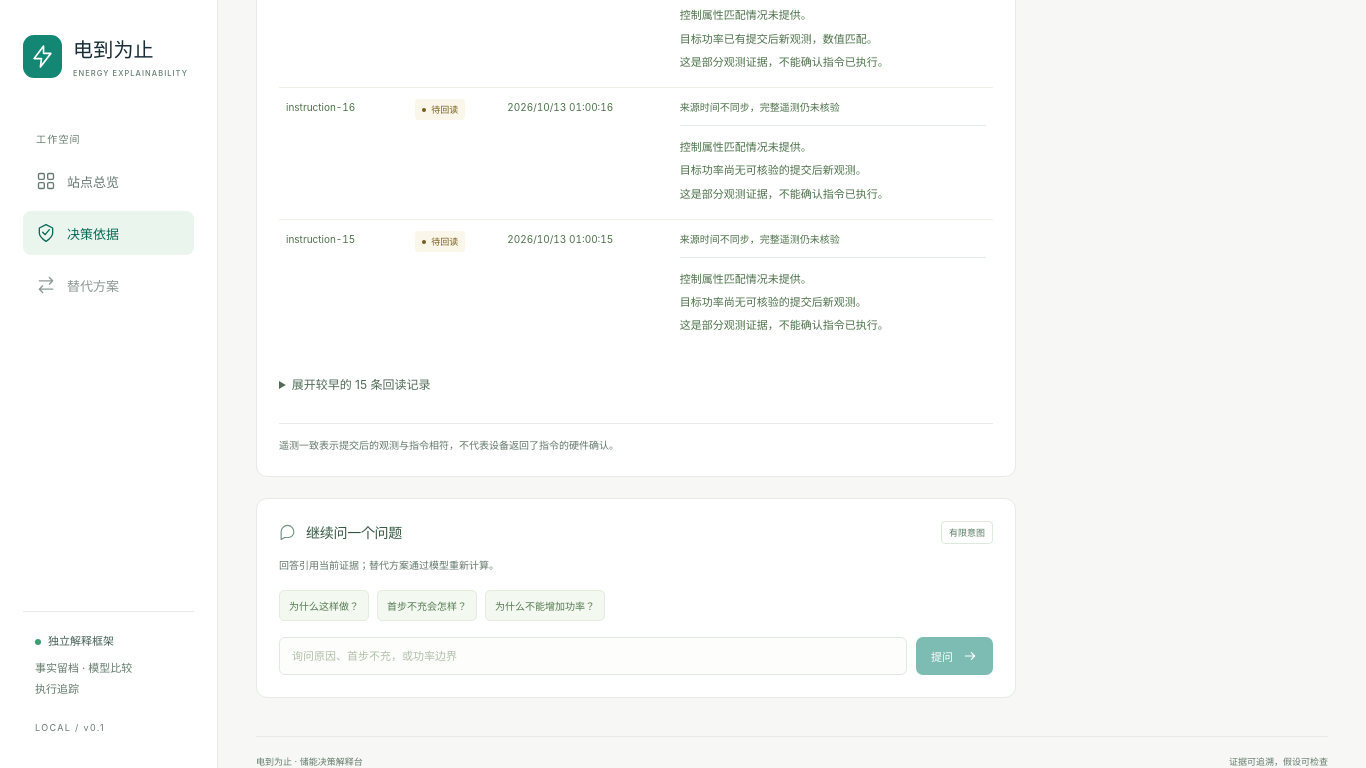
Test: 储能解释用户流程 › 优先显示最近三条回读，较早证据可展开且延迟旧记录不会抢占最新摘要
(page scrolled)
What coordinates should you click on to do the following:
click the heading "展开较早的 15 条回读记录"
I would click on:
 (361, 384)
Its box is [292,377,430,392].
(page scrolled)
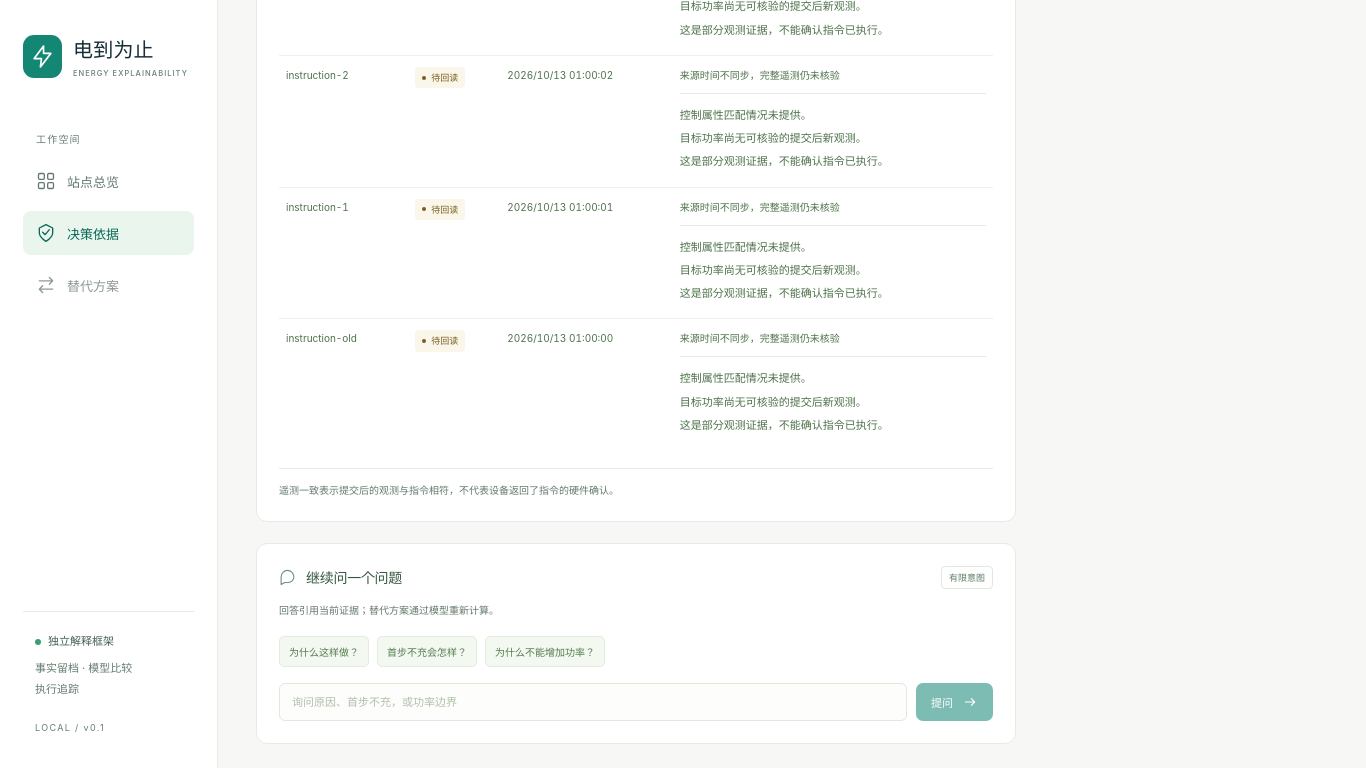
Expected: the text "instruction-old" is shown, [279,319,408,450]
